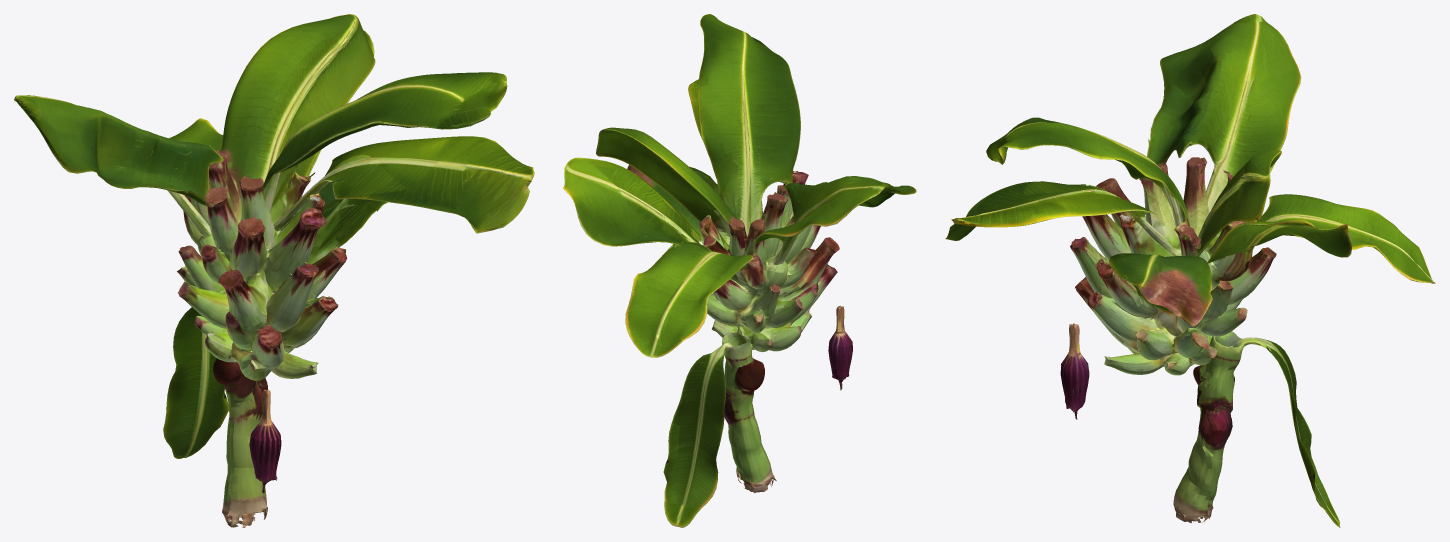
File: veg_tropical_banana_01.glb
3 views of the same model, side by side, from view 1: azimuth 30°, elevation 25°; view 2: azimuth 150°, elevation 25°; view 3: azimuth 270°, elevation 25° (orthographic). The views are drawn at different scales.
Visible parts, largest first — view 1: veg_tropical_banana_01; view 2: veg_tropical_banana_01; view 3: veg_tropical_banana_01.
Part boxes in pixels (bbox=[...]): veg_tropical_banana_01: bbox=[14, 14, 534, 527]; veg_tropical_banana_01: bbox=[563, 14, 916, 527]; veg_tropical_banana_01: bbox=[945, 14, 1435, 527].
Bounding box in the file's own units: 2.95 × 3.54 × 3.5.
Materials: 1 (1 with a texture image).
